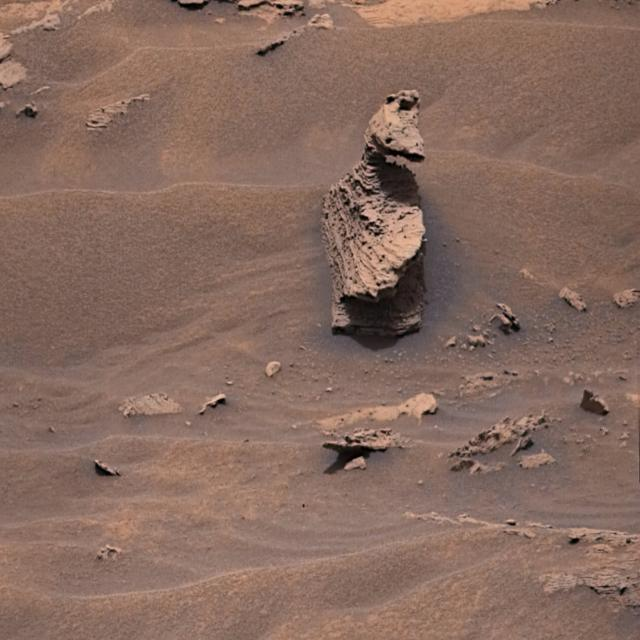red-sand: (0, 0, 640, 639)
stone: (322, 90, 426, 337), (317, 393, 438, 471), (540, 528, 640, 609), (608, 532, 622, 540)
